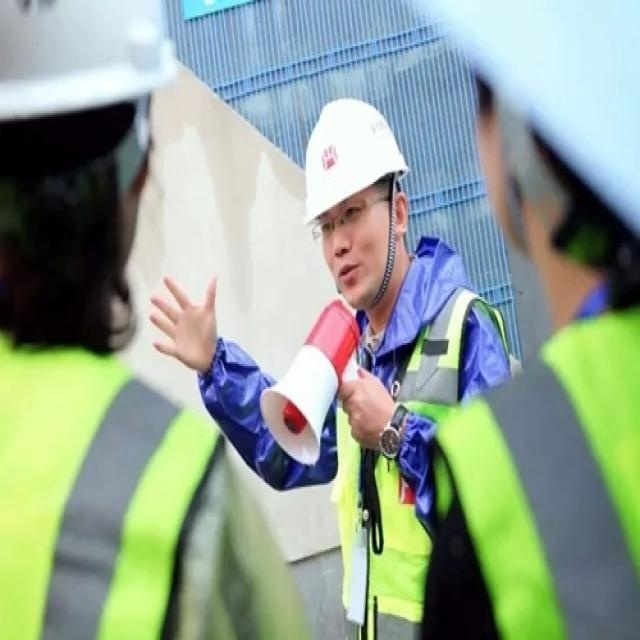Con_Casco: (299, 97, 406, 307)
Con_Chaleco: (432, 308, 640, 640), (0, 338, 228, 640)
